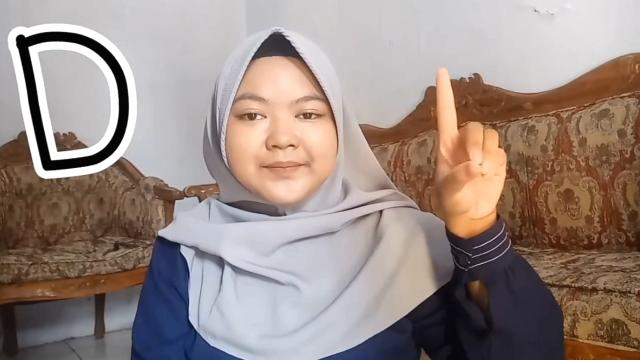D: (432, 64, 508, 224)
